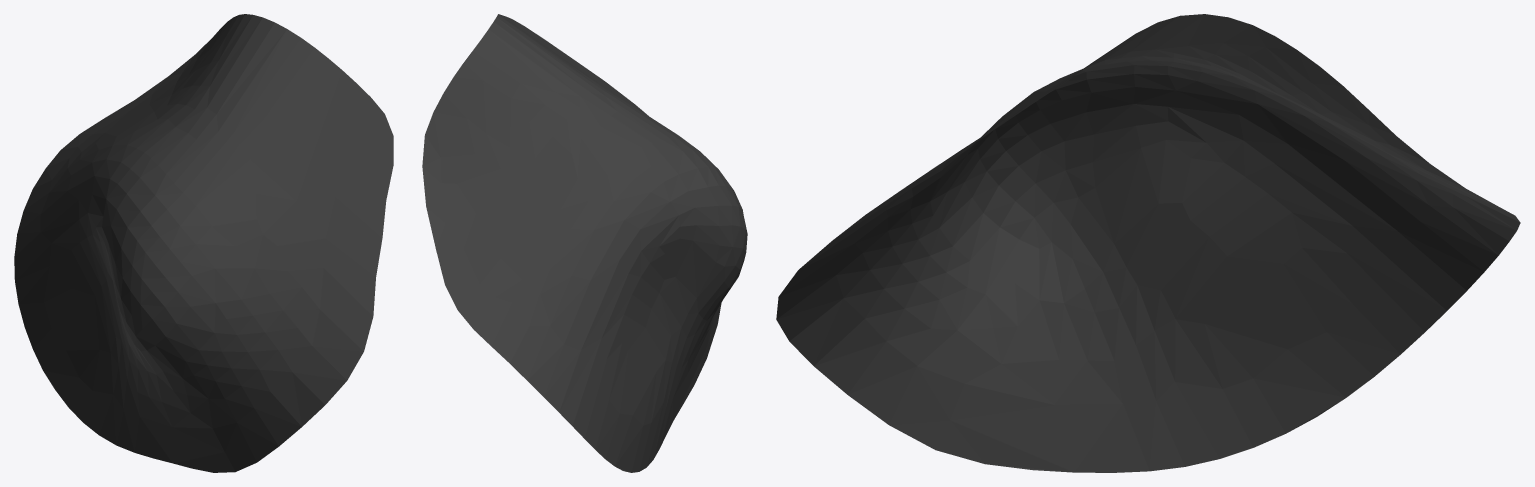
Rendered from Humerus_epicondyle_medial.glb.
3 renders of one model, left to right at view 1: azimuth 30°, elevation 25°; view 2: azimuth 150°, elevation 25°; view 3: azimuth 270°, elevation 25°, orthographic. The views are drawn at different scales.
Parts seen in each view (by area): view 1: Humerus_epicondyle_medial; view 2: Humerus_epicondyle_medial; view 3: Humerus_epicondyle_medial.
Part boxes in pixels (x1,y1,x2,y2): Humerus_epicondyle_medial: (14, 14, 393, 472); Humerus_epicondyle_medial: (422, 14, 747, 472); Humerus_epicondyle_medial: (776, 14, 1520, 472).
Size of the model in its own units: 0.1201 by 0.1854 by 0.2223.
Materials: 1 (1 with a texture image).
